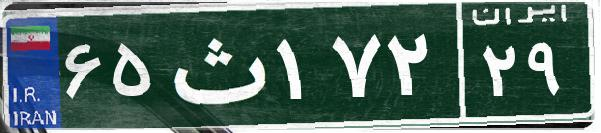1: (273, 28, 330, 110)
2: (385, 28, 445, 110), (475, 38, 525, 113)
5: (110, 28, 158, 105)
6: (57, 26, 110, 107)
7: (330, 28, 385, 110)
9: (525, 38, 570, 115)
ث: (158, 15, 273, 115)
